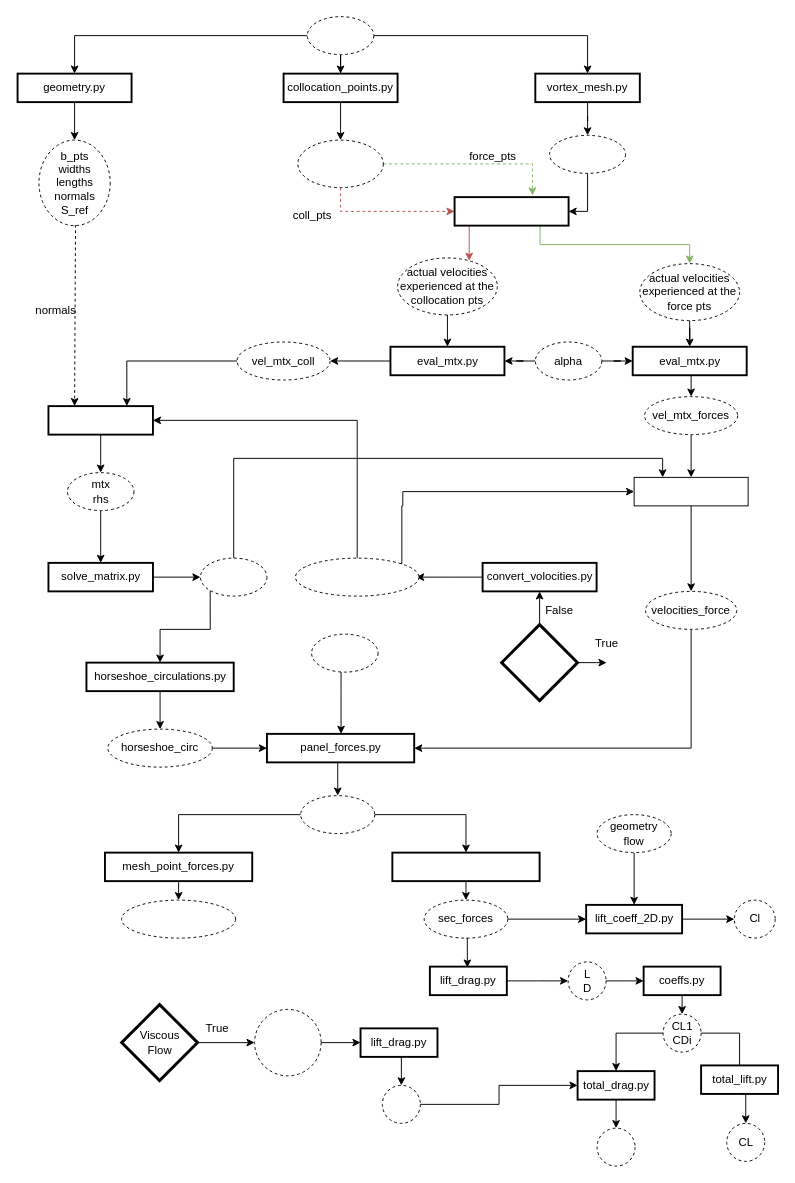
The diagram is 795 pixels wide and 1183 high, and some of its shapes have lost their labels. The box of each missing label's shape, as (x1, y1, x2, y2) in pixels:
bound_pts rho: (311, 633, 378, 672)
CD: (596, 1127, 635, 1166)
CDv: (381, 1084, 420, 1123)
circulations: (200, 557, 267, 596)
coll_pts bound_pts force_pts: (297, 139, 383, 188)
eval_velocities.py: (633, 476, 748, 506)
freestream_velocities: (294, 557, 419, 596)
get_vectors.py: (453, 196, 569, 226)
mesh: (306, 16, 374, 55)
mesh_point_forces: (121, 899, 236, 938)
mtx_rhs.py: (47, 405, 153, 435)
panel_forces: (300, 795, 375, 834)
panel_forces_surf.py: (391, 851, 540, 882)
Re Mach geometry: (254, 1008, 321, 1076)
Rotacional Velocities: (500, 623, 579, 702)
vortex_mesh: (549, 134, 626, 173)
